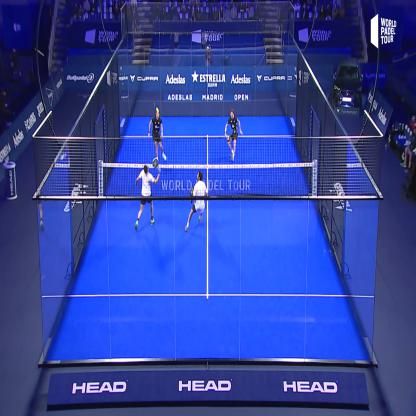ball: (154, 103, 160, 115)
